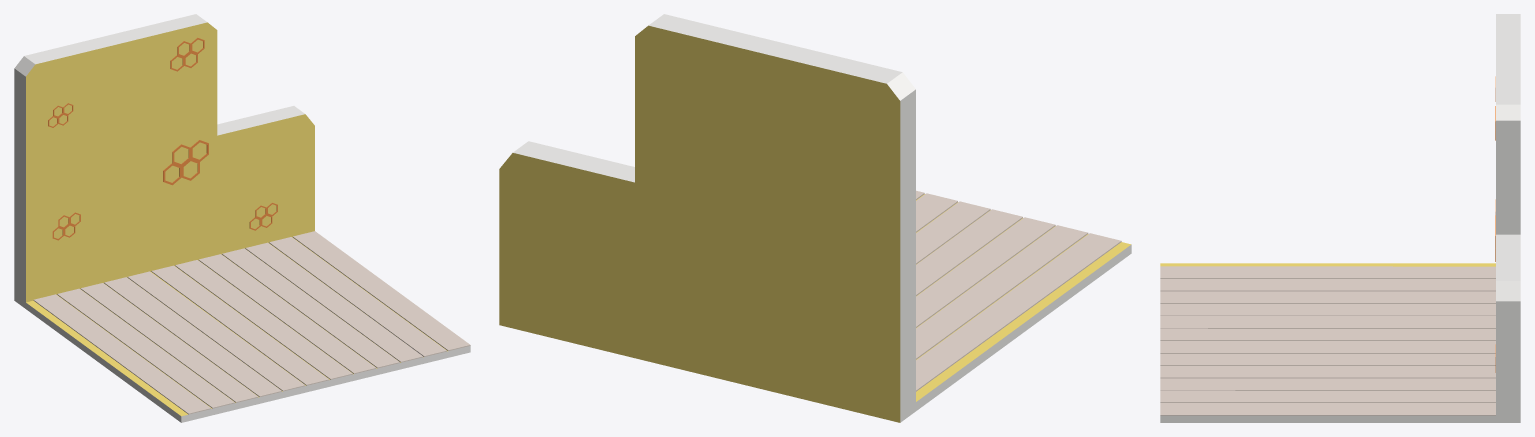
File: Wall_9.fbx
The picture shows the model from 3 angles, left to right: view 1: azimuth 30°, elevation 25°; view 2: azimuth 150°, elevation 25°; view 3: azimuth 270°, elevation 25°; orthographic projection. The views are drawn at different scales.
Parts seen in each view (by area): view 1: Wall_9; view 2: Wall_9; view 3: Wall_9.
Part boxes in pixels (<box>): Wall_9: <box>14,14,470,422</box>; Wall_9: <box>499,14,1131,422</box>; Wall_9: <box>1160,14,1520,422</box>.
Bounding box in the file's own units: 500 × 500 × 401.
